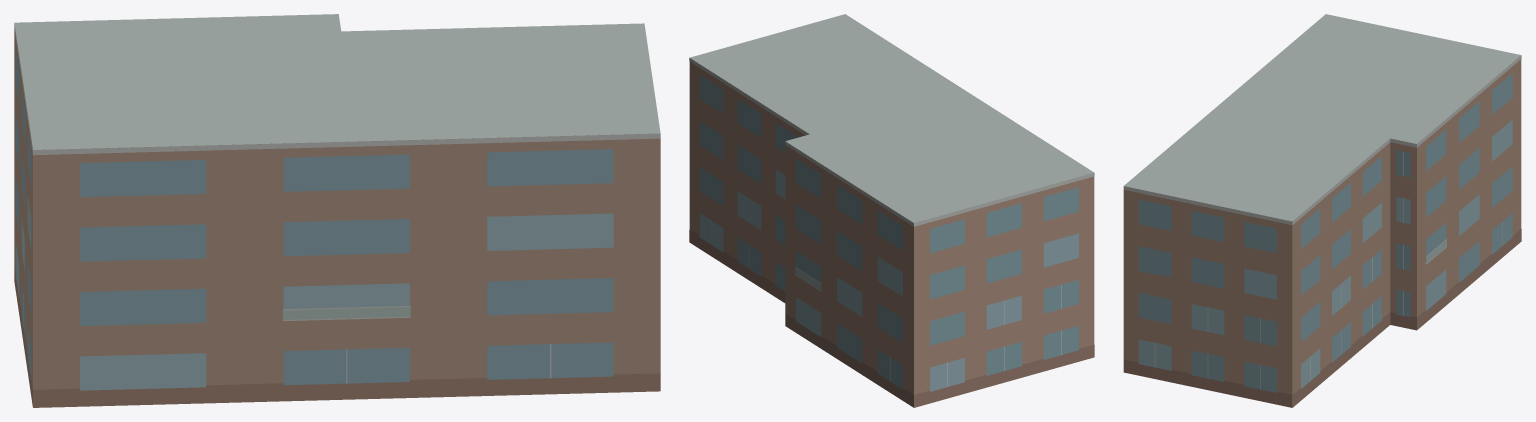
File: residential-a4a7f42f-79e5-42b9-9a35-d012e1f81517.glb
3 views of the same model, side by side, from view 1: azimuth 30°, elevation 25°; view 2: azimuth 150°, elevation 25°; view 3: azimuth 270°, elevation 25° (orthographic). The views are drawn at different scales.
Visible parts, largest first — view 1: residential-a4a7f42f-79e5-42b9-9a35-d012e1f81517.tmp; view 2: residential-a4a7f42f-79e5-42b9-9a35-d012e1f81517.tmp; view 3: residential-a4a7f42f-79e5-42b9-9a35-d012e1f81517.tmp.
Part boxes in pixels (bbox=[...]): residential-a4a7f42f-79e5-42b9-9a35-d012e1f81517.tmp: bbox=[14, 14, 660, 407]; residential-a4a7f42f-79e5-42b9-9a35-d012e1f81517.tmp: bbox=[689, 14, 1094, 407]; residential-a4a7f42f-79e5-42b9-9a35-d012e1f81517.tmp: bbox=[1123, 14, 1521, 407].
Bounding box in the file's own units: 29.14 × 12.2 × 23.61.
